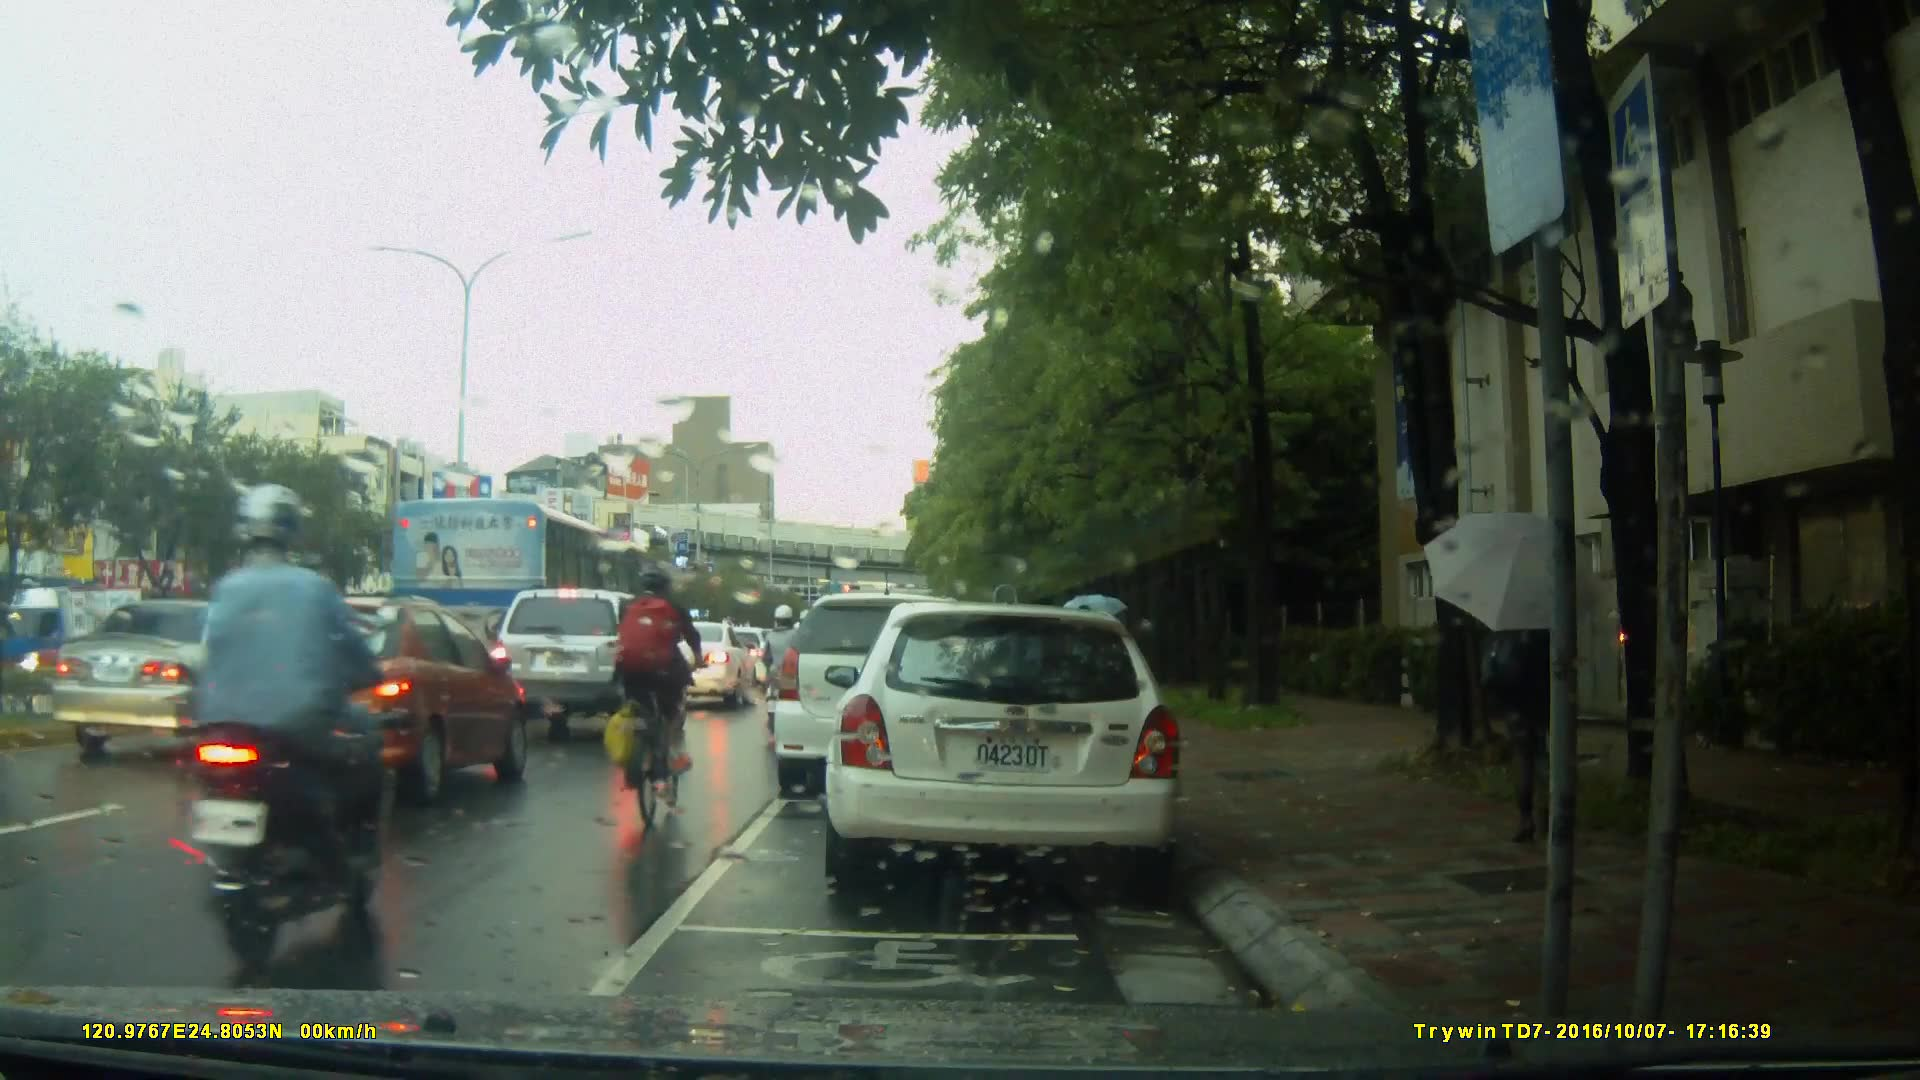pedestrian: (1476, 531, 1605, 856)
rider: (179, 488, 388, 951), (609, 564, 707, 822), (763, 598, 811, 739)
vehicle: (835, 594, 1194, 898), (193, 594, 528, 814), (371, 489, 667, 713), (776, 590, 1026, 784), (43, 596, 319, 762), (483, 585, 689, 738), (1, 586, 157, 697)
